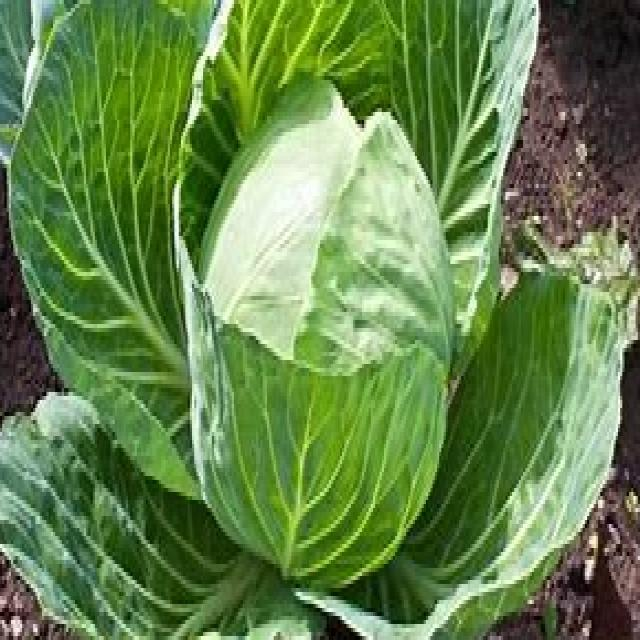cabbage: (165, 100, 448, 576)
